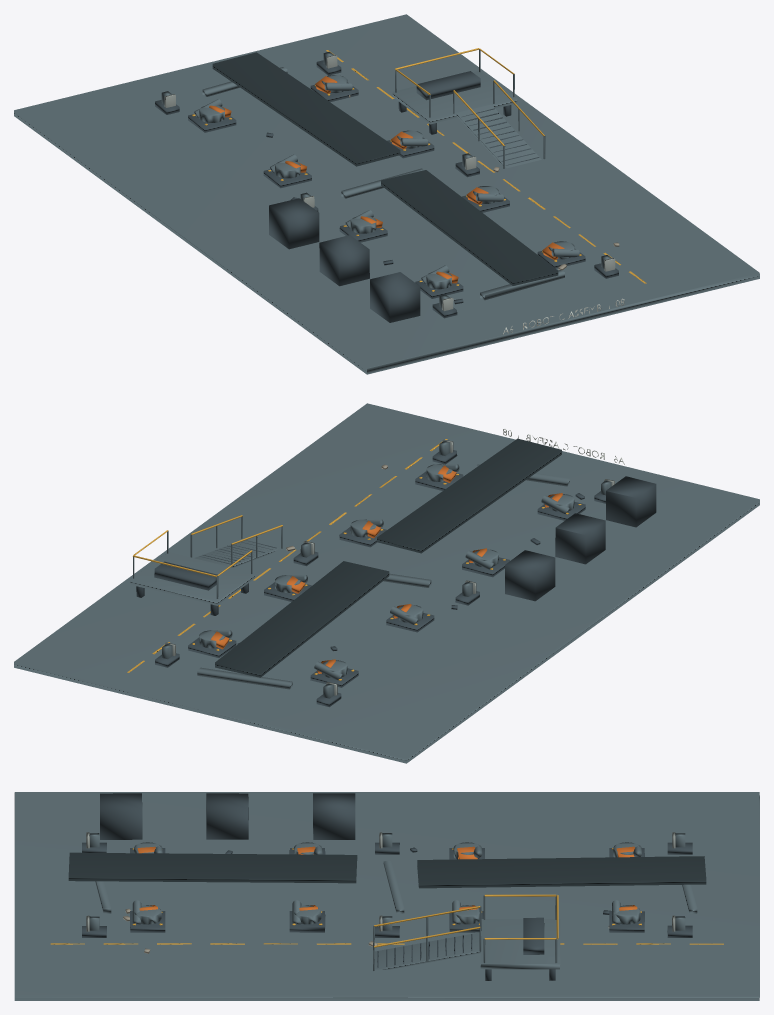
Rendered from robotic_assembly_line_d3_lod1.meshopt.glb.
The picture shows the model from 3 angles, top to bottom: view 1: azimuth 30°, elevation 25°; view 2: azimuth 150°, elevation 25°; view 3: azimuth 270°, elevation 25°; orthographic projection. The views are drawn at different scales.
Visible parts, largest first — view 1: ROBOTIC_ASSEMBLY_LINE_LOD1_STATIC_GEOMETRY; view 2: ROBOTIC_ASSEMBLY_LINE_LOD1_STATIC_GEOMETRY; view 3: ROBOTIC_ASSEMBLY_LINE_LOD1_STATIC_GEOMETRY.
Boxes of the visible parts, x1,y1,x2,y2 form: ROBOTIC_ASSEMBLY_LINE_LOD1_STATIC_GEOMETRY: [14, 14, 759, 374]; ROBOTIC_ASSEMBLY_LINE_LOD1_STATIC_GEOMETRY: [14, 403, 759, 763]; ROBOTIC_ASSEMBLY_LINE_LOD1_STATIC_GEOMETRY: [14, 792, 759, 1000].
Bounding box in the file's own units: 17.99 × 2.11 × 28.02.
